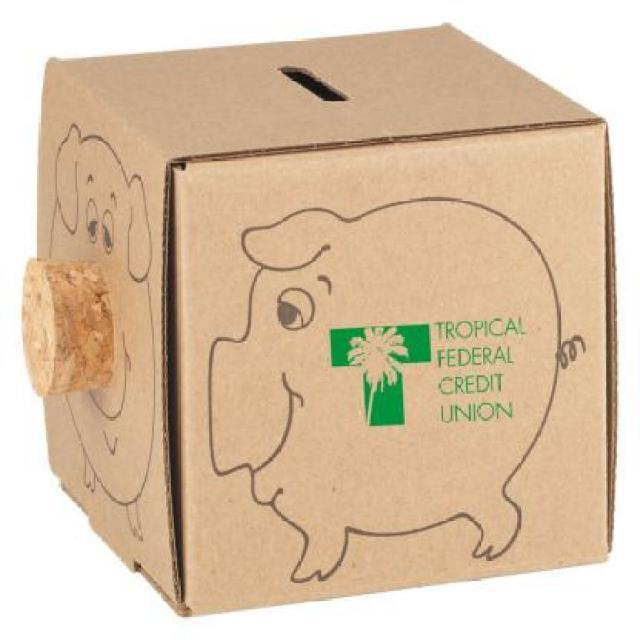box: (47, 18, 608, 590)
